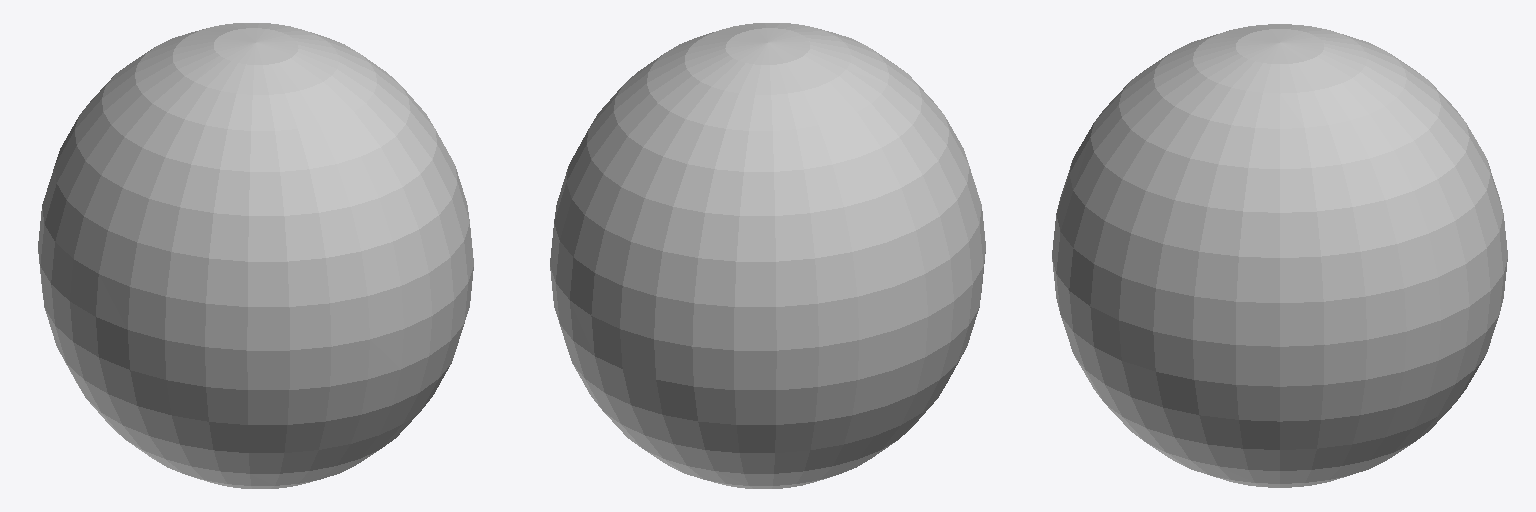
File: shar.obj
3 renders of one model, left to right at view 1: azimuth 30°, elevation 25°; view 2: azimuth 150°, elevation 25°; view 3: azimuth 270°, elevation 25°, orthographic.
Visible parts, largest first — view 1: Сфера_Сфера.000; view 2: Сфера_Сфера.000; view 3: Сфера_Сфера.000.
Boxes of the visible parts, x1=… form: Сфера_Сфера.000: x1=38, y1=23, x2=473, y2=488; Сфера_Сфера.000: x1=550, y1=23, x2=985, y2=488; Сфера_Сфера.000: x1=1052, y1=24, x2=1507, y2=487.
Size of the model in its own units: 0.0714 by 0.0782 by 0.0757.